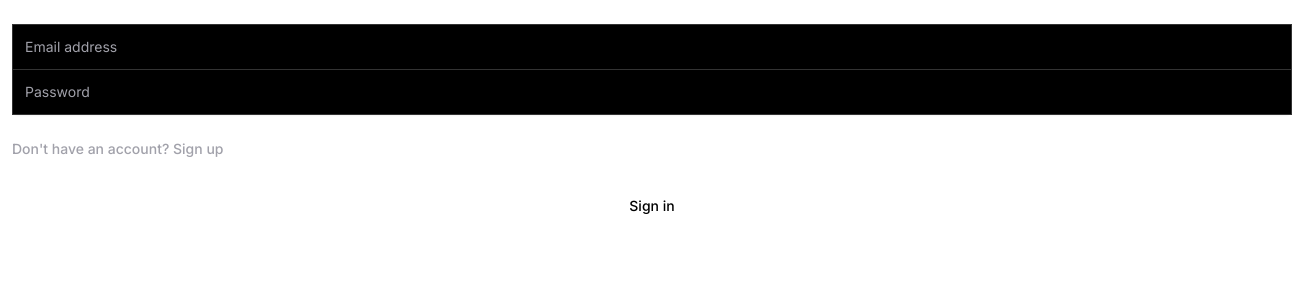
LoginForm › shows error message when login fails
Step 1. Type "test@example.com" into the field labelled "Email address" → coordinates (652, 47), box left=12, top=24, right=1292, bottom=70
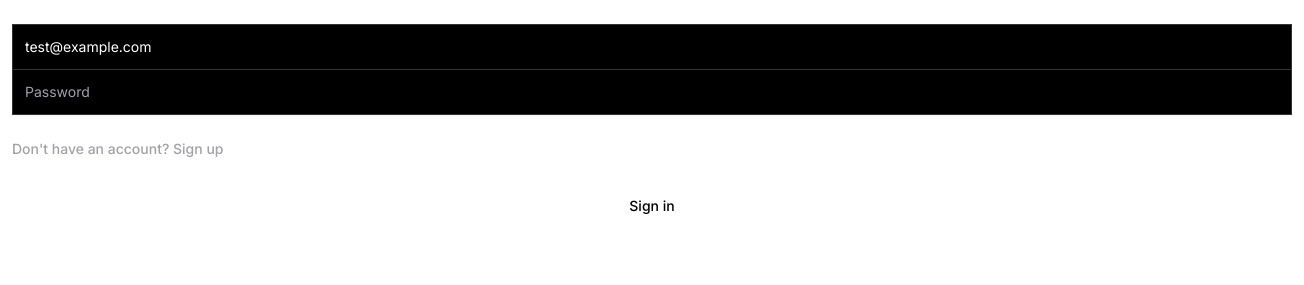
Step 2. Type "wrongpassword" into the password field labelled "Password" → coordinates (652, 92), box left=12, top=69, right=1292, bottom=115
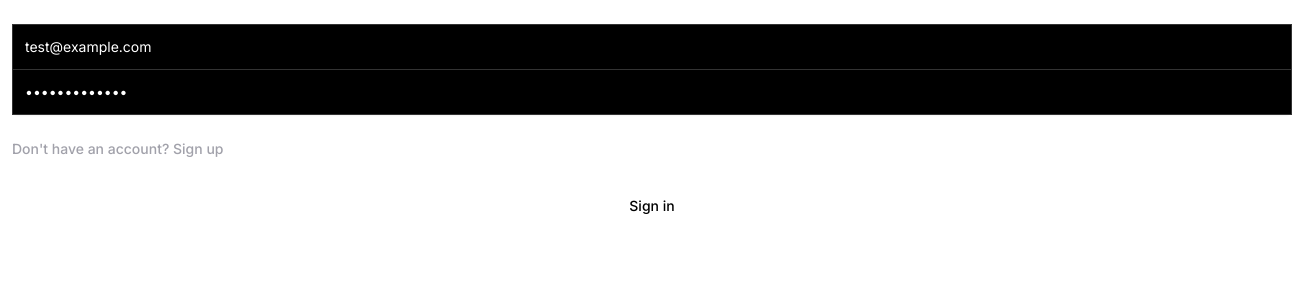
Step 3. Click the button "Sign in" → coordinates (652, 206), box left=12, top=183, right=1292, bottom=229
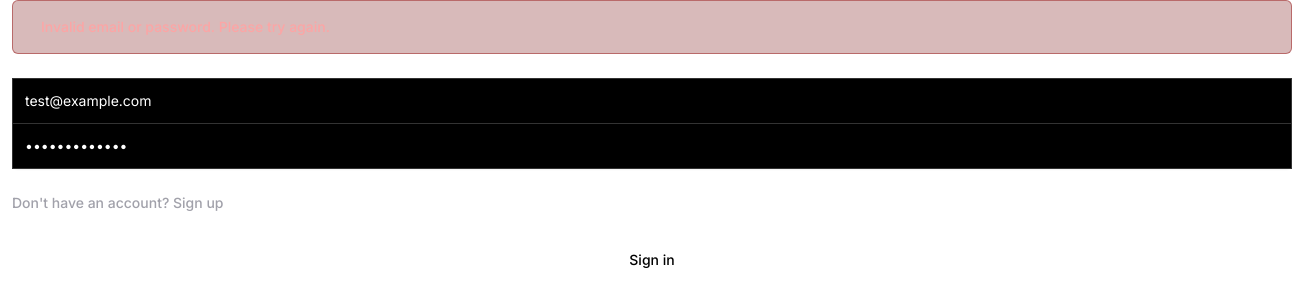
Expected: the heading "Invalid email or password. Please try again." is shown, left=41, top=17, right=330, bottom=37
